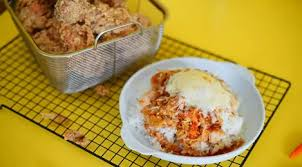ayam_geprek: (140, 63, 250, 162)
